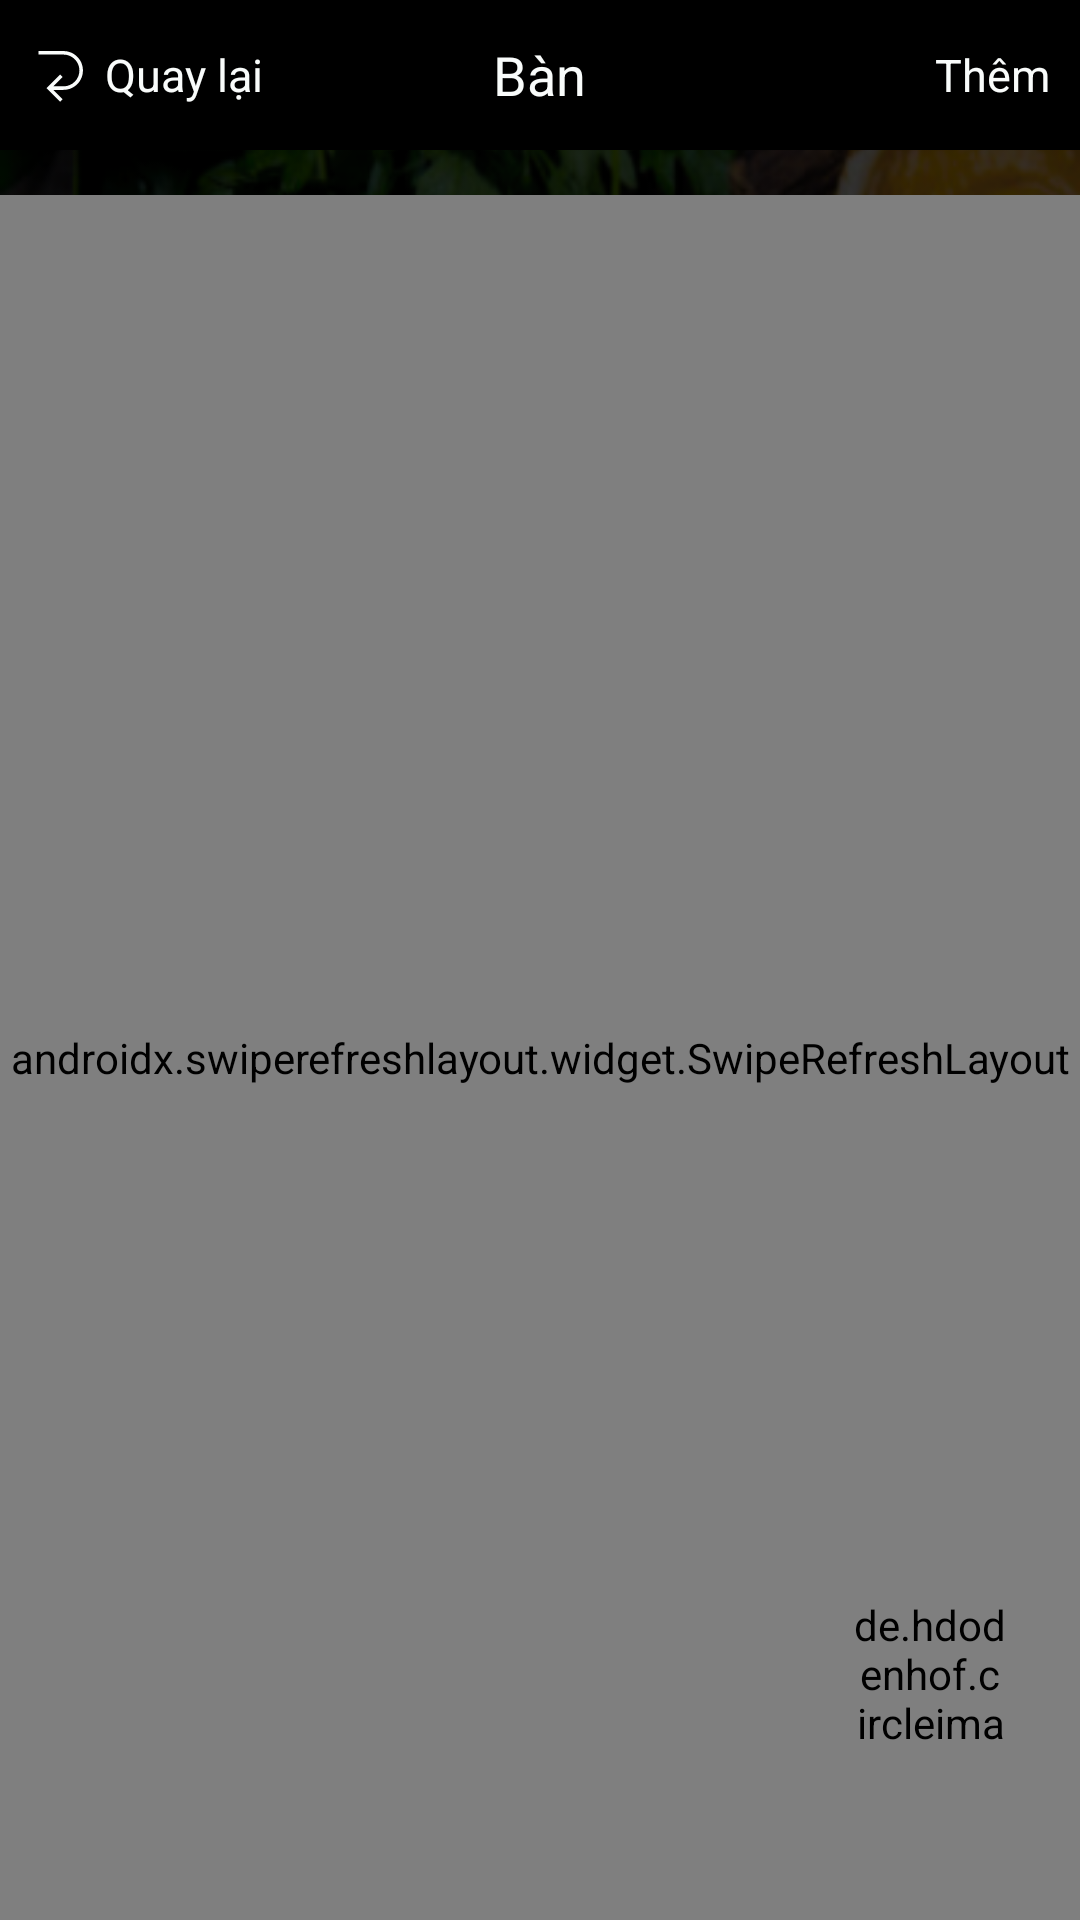

Screen size 1080w x 1920h. Icon name, then its box in pixels as Rect(x1, y1, x2, y2):
back left: Rect(38, 51, 83, 102)
